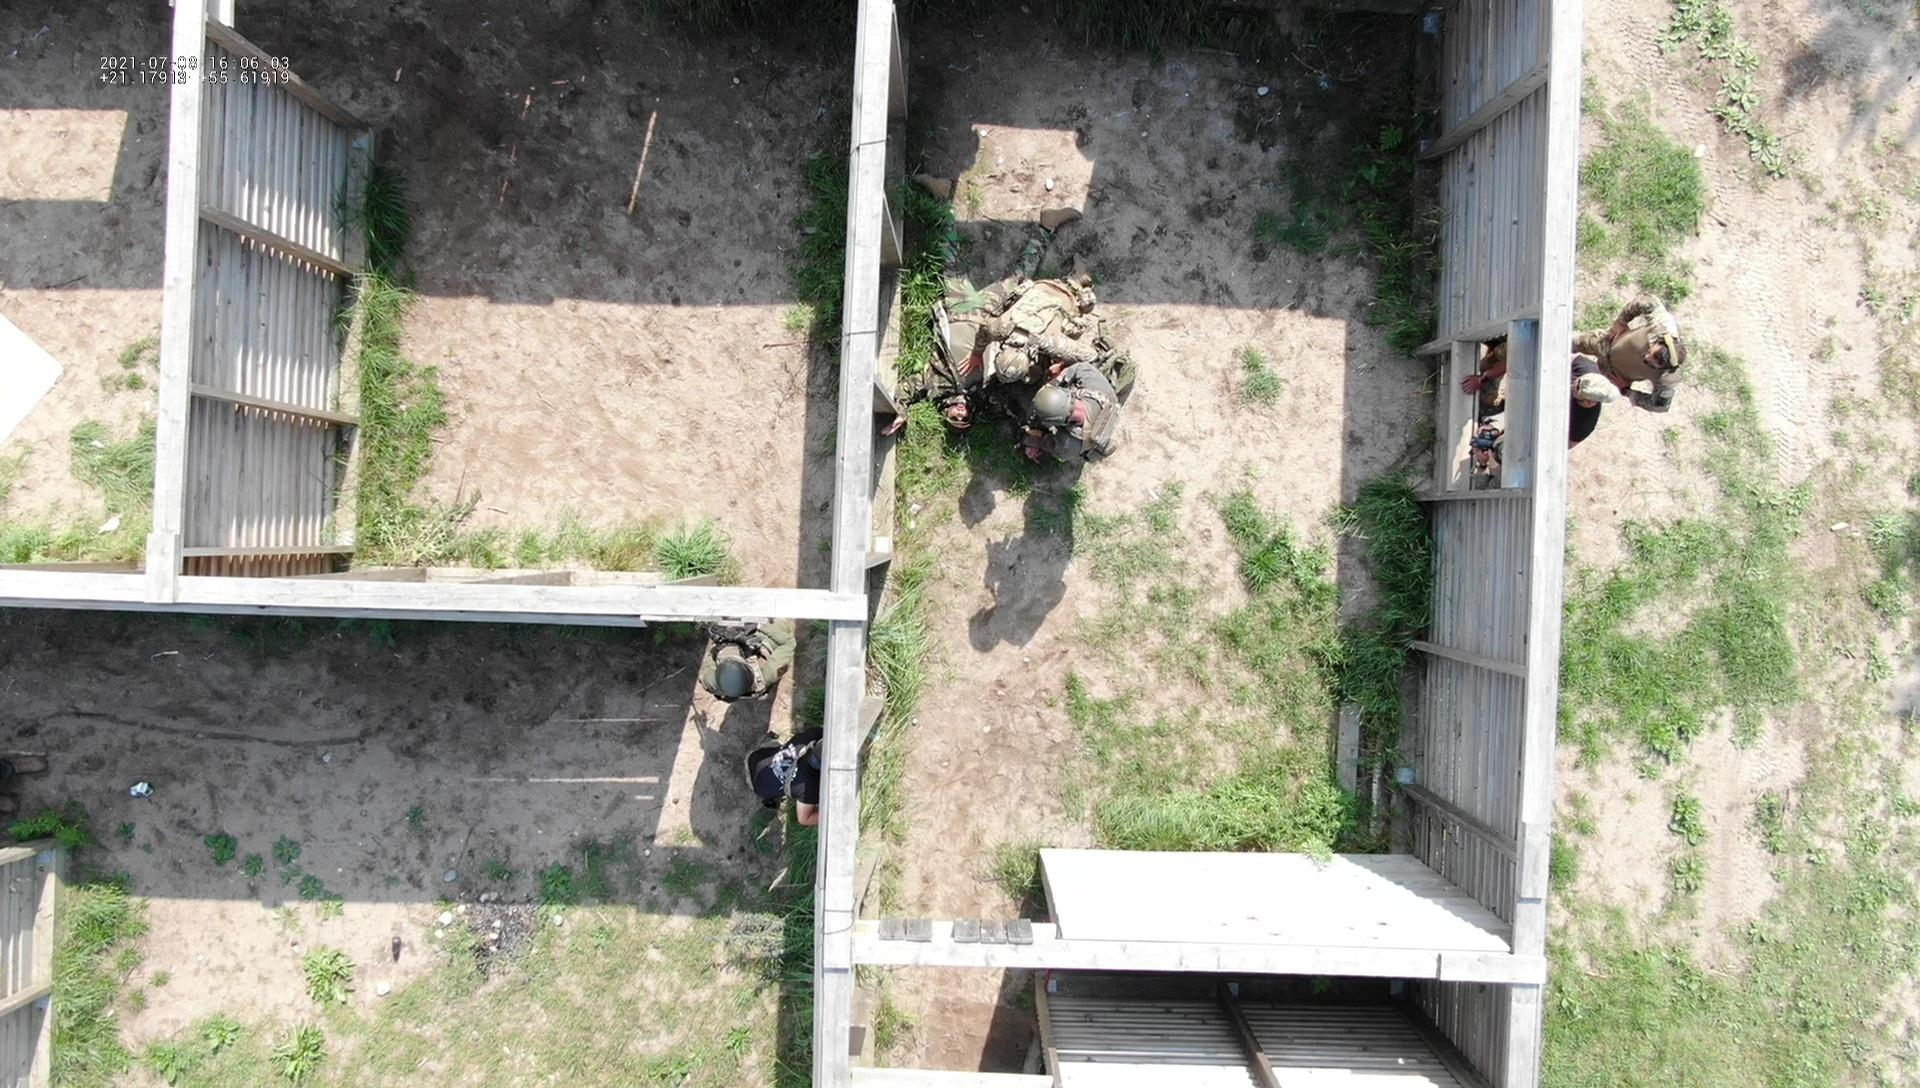Soldier: (887, 185, 1022, 426), (996, 266, 1114, 396), (699, 616, 818, 717), (1029, 364, 1130, 473), (1592, 307, 1681, 409)
